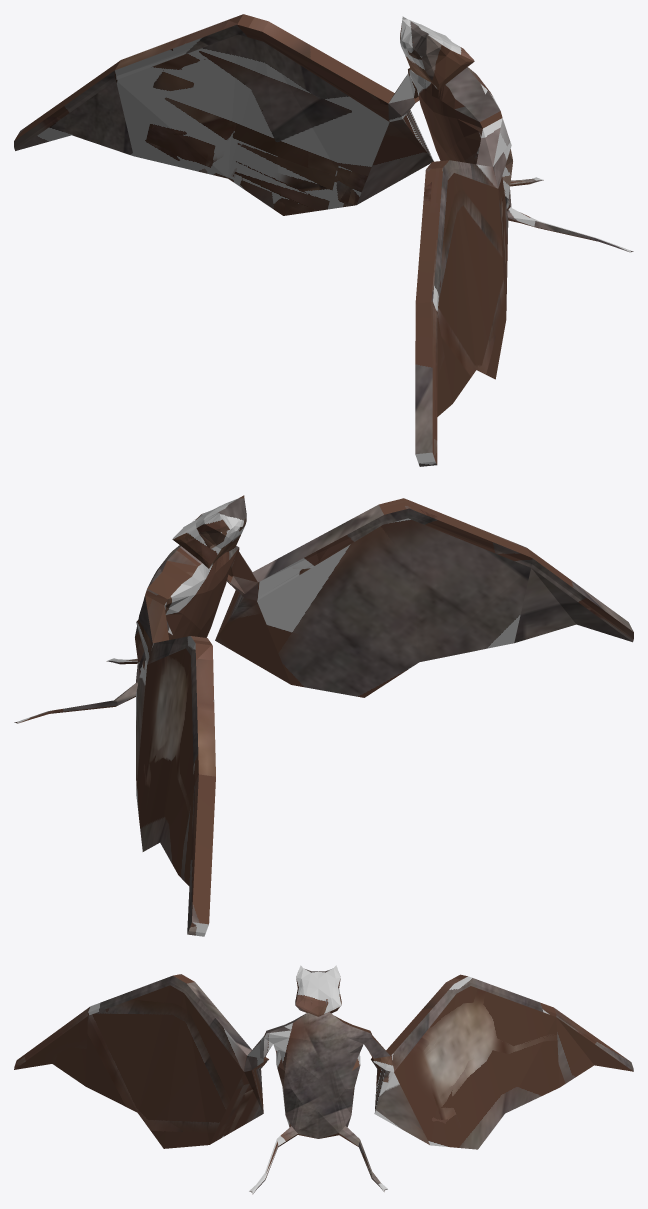
File: Enemigo19.obj
3 renders of one model, top to bottom at view 1: azimuth 30°, elevation 25°; view 2: azimuth 150°, elevation 25°; view 3: azimuth 270°, elevation 25°, orthographic. The views are drawn at different scales.
Visible parts, largest first — view 1: Plano; view 2: Plano; view 3: Plano.
Part boxes in pixels (left/top/right/bottom): Plano: left=14, top=14, right=633, bottom=466; Plano: left=14, top=495, right=633, bottom=936; Plano: left=14, top=965, right=633, bottom=1194.
Bounding box in the file's own units: 0.9544 × 0.6473 × 1.88.
1 material, 1 textured.
